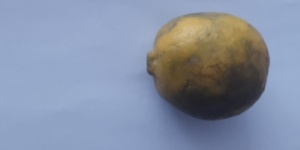BAD: (147, 11, 273, 122)
